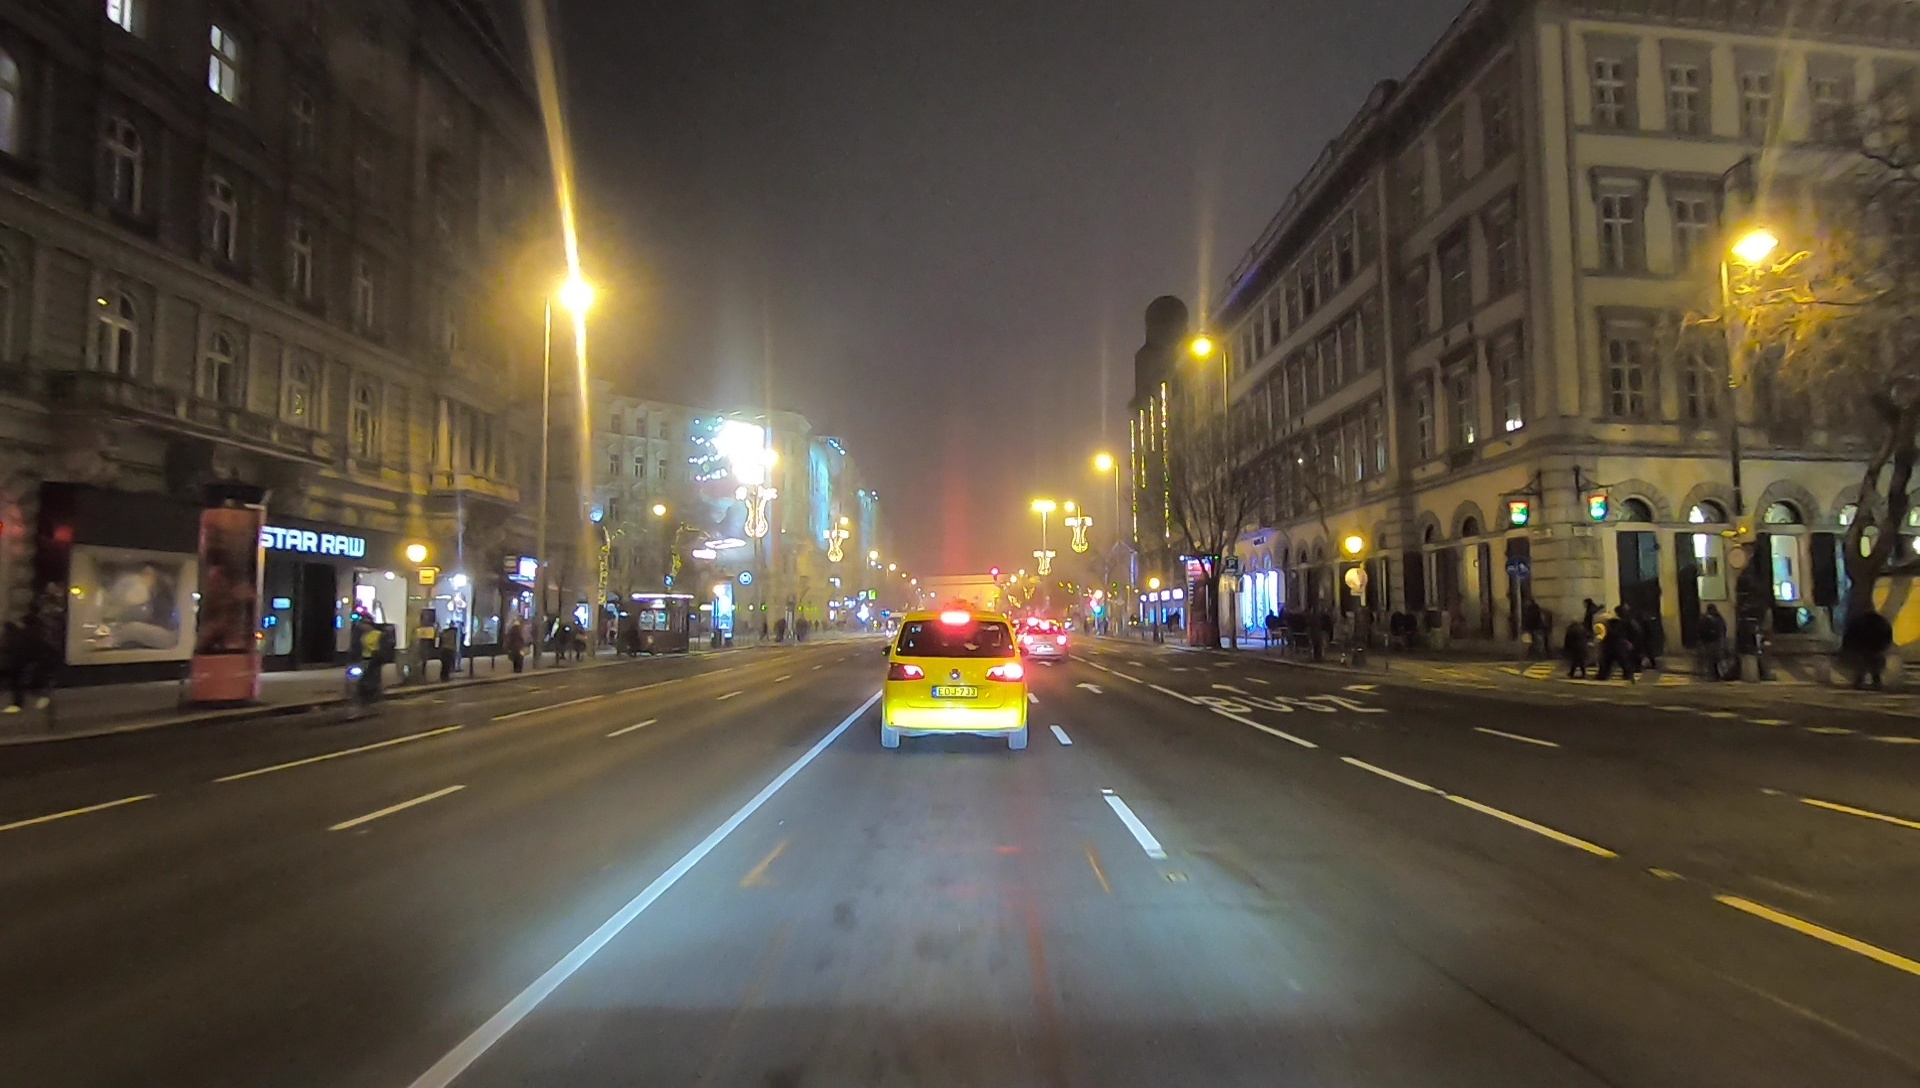person: (433, 613, 464, 685), (1599, 604, 1626, 680), (1565, 613, 1595, 678), (1643, 606, 1669, 674), (504, 613, 528, 673), (1706, 608, 1726, 673)
